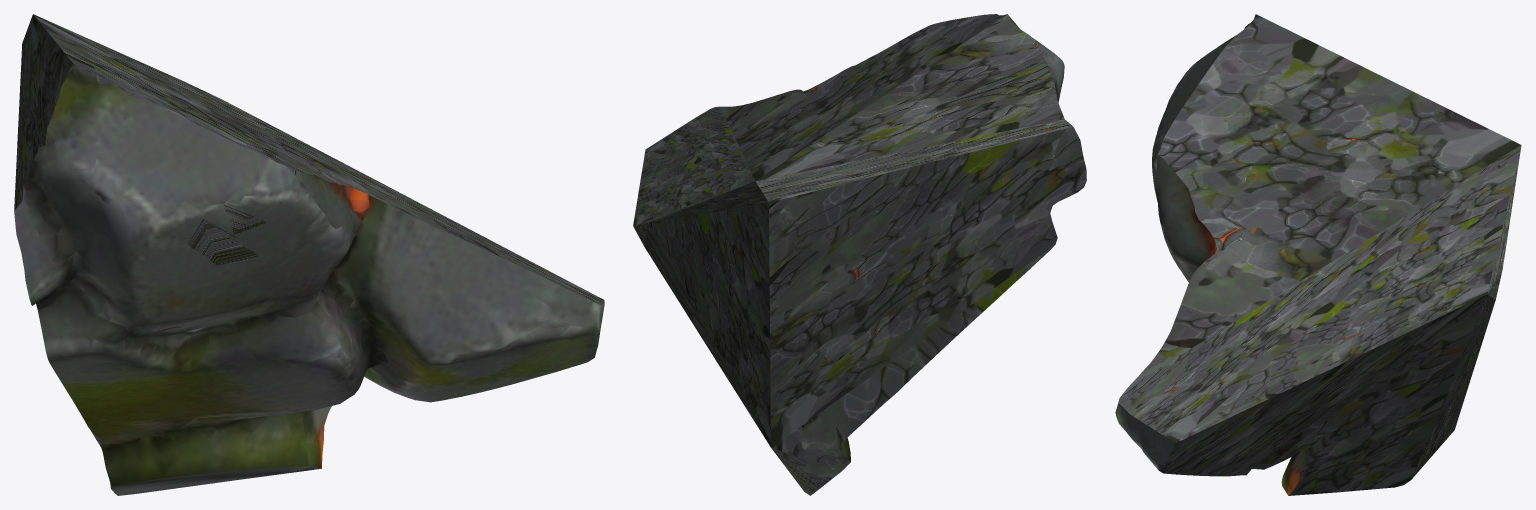
The model's file is Frag_05.gltf.
The picture shows the model from 3 angles, left to right: view 1: azimuth 30°, elevation 25°; view 2: azimuth 150°, elevation 25°; view 3: azimuth 270°, elevation 25°; orthographic projection. The views are drawn at different scales.
Parts seen in each view (by area): view 1: Frag_05; view 2: Frag_05; view 3: Frag_05.
Part boxes in pixels (x1,y1,x2,y2): Frag_05: (14, 14, 604, 495); Frag_05: (633, 14, 1086, 495); Frag_05: (1115, 14, 1521, 495).
Bounding box in the file's own units: 0.3575 × 0.3311 × 0.2914.
Materials: 1 (1 with a texture image).
